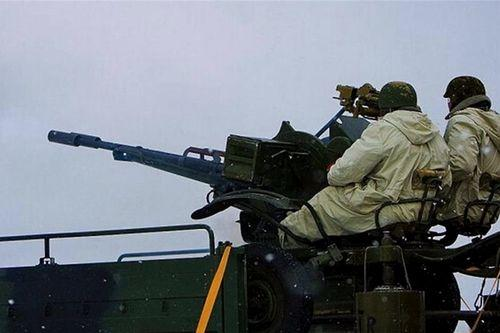MIL_SPG: (0, 84, 500, 332)
